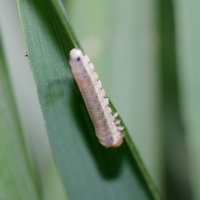insect: (69, 48, 123, 146)
